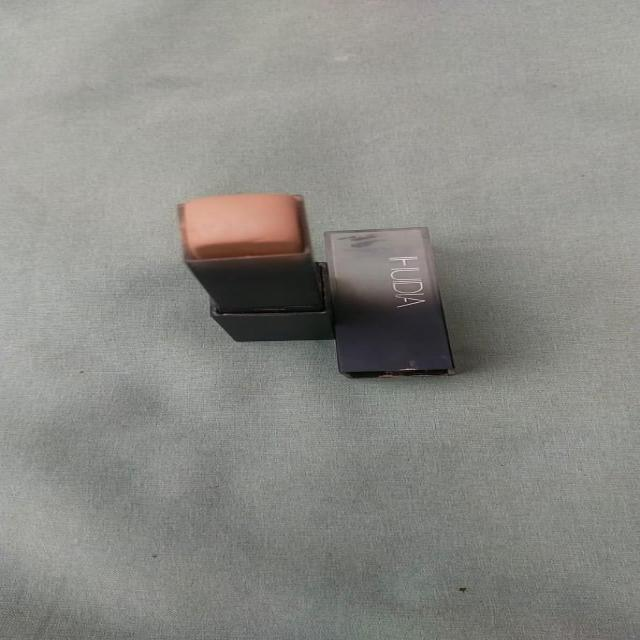lip stick: (172, 178, 478, 402)
